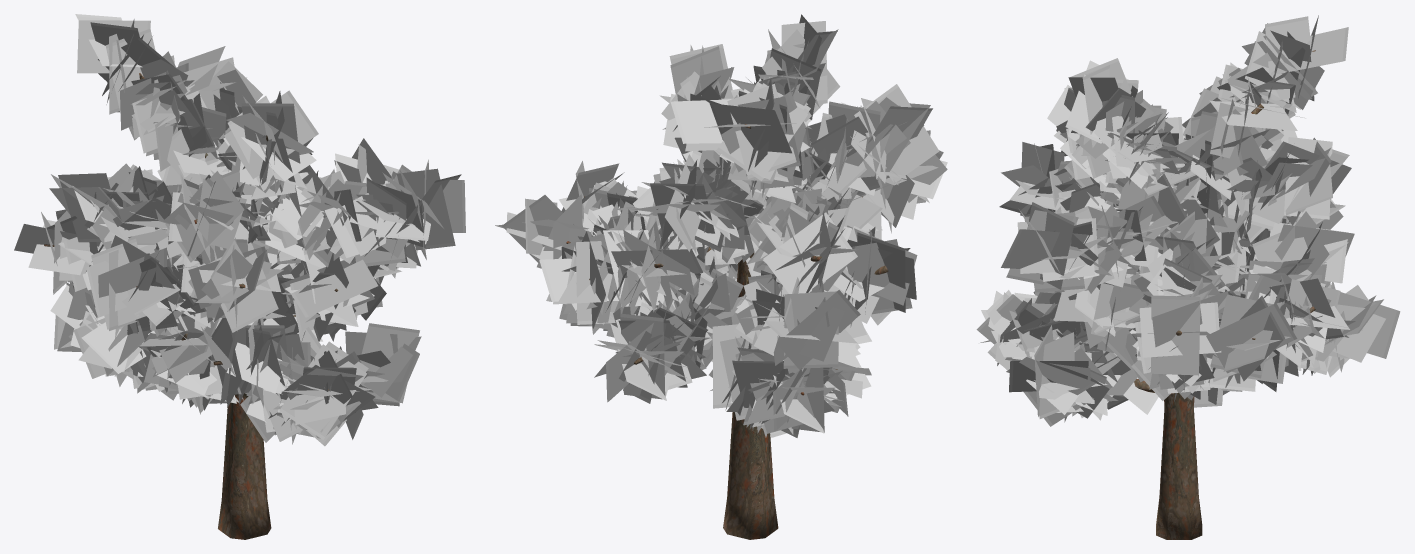
The model's file is Tree 1.fbx.
3 renders of one model, left to right at view 1: azimuth 30°, elevation 25°; view 2: azimuth 150°, elevation 25°; view 3: azimuth 270°, elevation 25°, orthographic. The views are drawn at different scales.
Visible parts, largest first — view 1: Empty.003, Cube; view 2: Empty.003, Cube; view 3: Empty.003, Cube.
Part boxes in pixels (x1,y1,x2,y2): Empty.003: [14, 14, 465, 446]; Cube: [44, 73, 338, 539]; Empty.003: [495, 14, 947, 437]; Cube: [566, 124, 888, 539]; Empty.003: [976, 15, 1400, 426]; Cube: [1134, 50, 1315, 539].
Bounding box in the file's own units: 1492 × 1893 × 1530.
